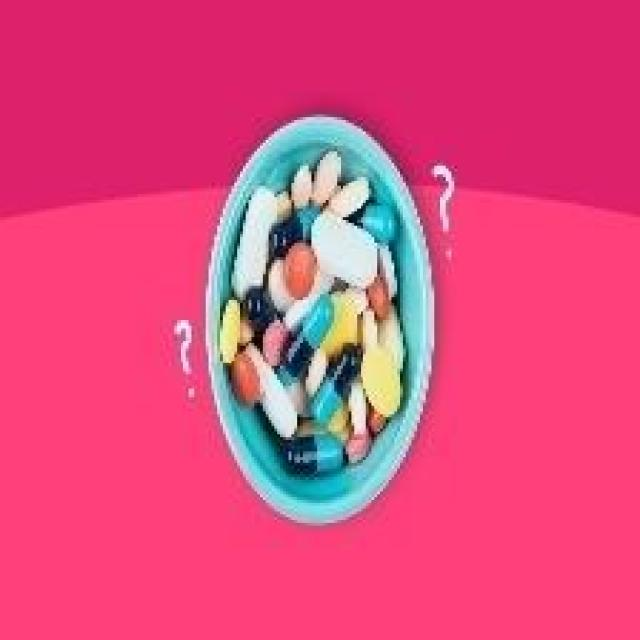Medicine: (180, 92, 474, 568)
